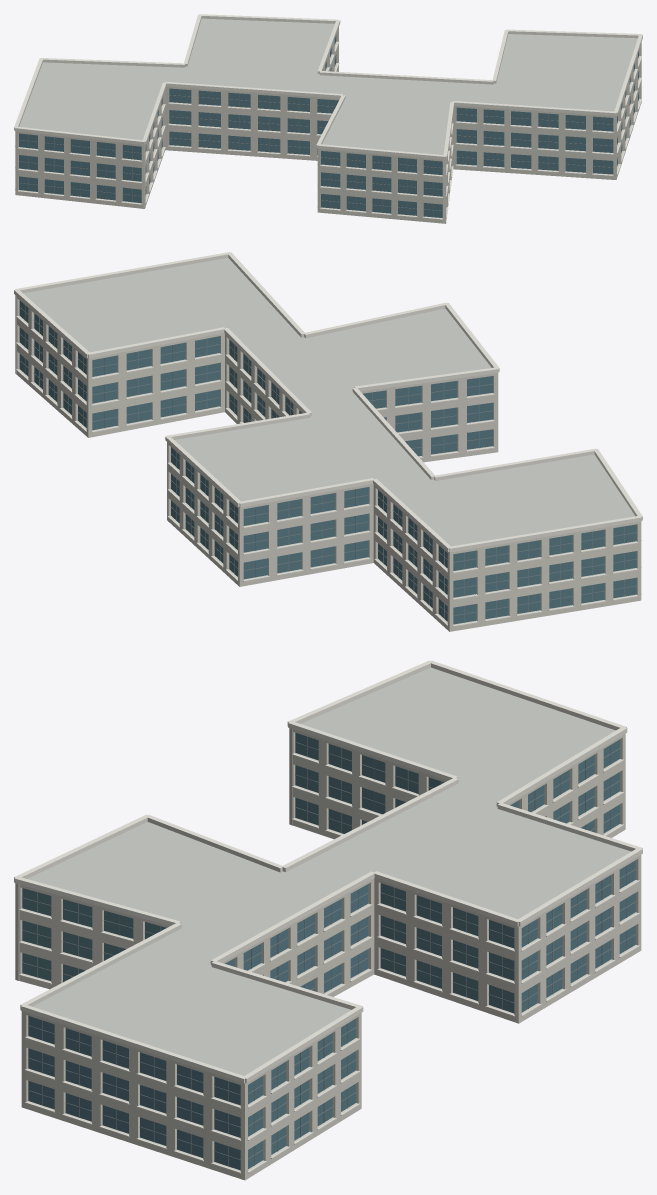
3 renders of one model, top to bottom at view 1: azimuth 30°, elevation 25°; view 2: azimuth 150°, elevation 25°; view 3: azimuth 270°, elevation 25°, orthographic. The views are drawn at different scales.
Visible parts, largest first — view 1: roof, wall, glass, trim, metal; view 2: roof, wall, glass, trim, metal; view 3: roof, wall, glass, trim, metal.
Part boxes in pixels (bbox=[...]): roof: bbox=[19, 18, 637, 154]; wall: bbox=[15, 27, 641, 223]; glass: bbox=[19, 36, 638, 217]; trim: bbox=[14, 14, 642, 219]; metal: bbox=[19, 34, 639, 216]; roof: bbox=[23, 258, 634, 546]; wall: bbox=[15, 295, 641, 631]; glass: bbox=[19, 300, 636, 624]; trim: bbox=[14, 252, 642, 626]; metal: bbox=[19, 305, 636, 622]; roof: bbox=[27, 667, 631, 1075]; wall: bbox=[15, 728, 641, 1180]; glass: bbox=[22, 732, 635, 1170]; trim: bbox=[14, 660, 642, 1173]; metal: bbox=[22, 736, 636, 1166].
Bounding box in the file's own units: 85.67 × 9.74 × 54.4.
